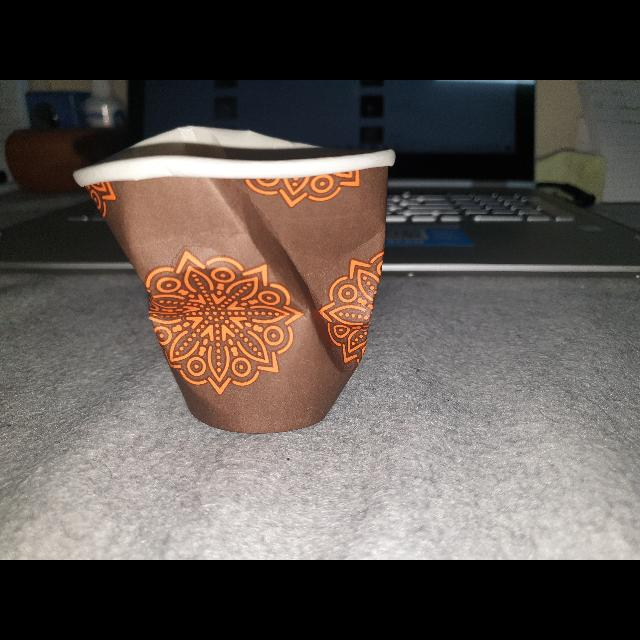trash: (66, 104, 408, 442)
